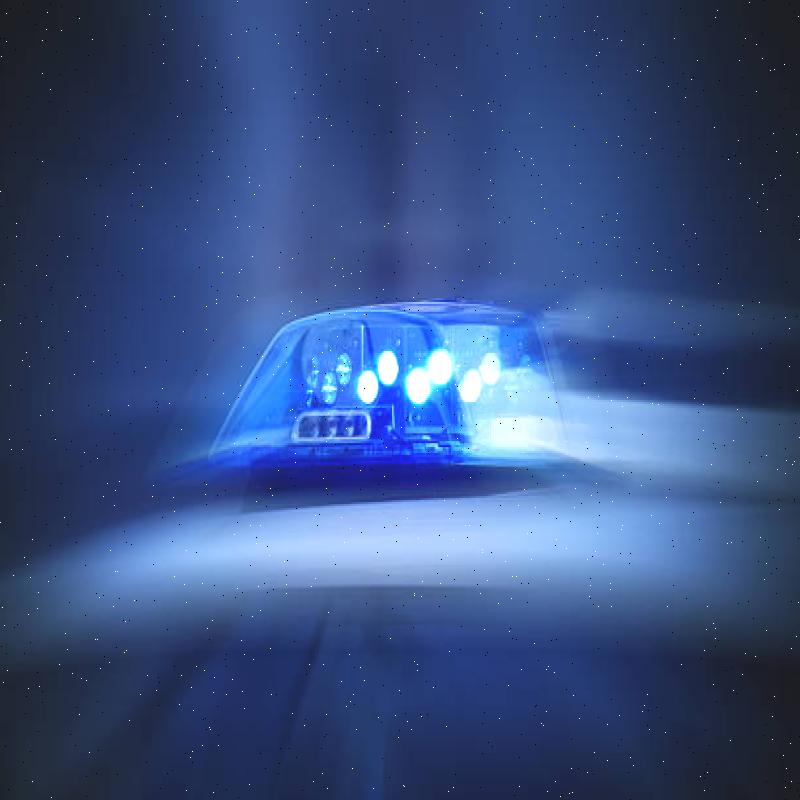AmbulanceSiren: (187, 239, 562, 530)
